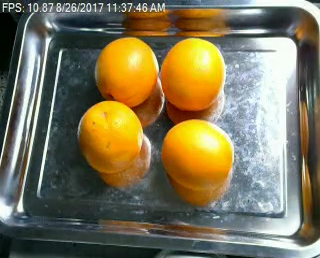Orange: (161, 118, 235, 188), (77, 100, 143, 172), (158, 37, 223, 110), (94, 37, 159, 106)
